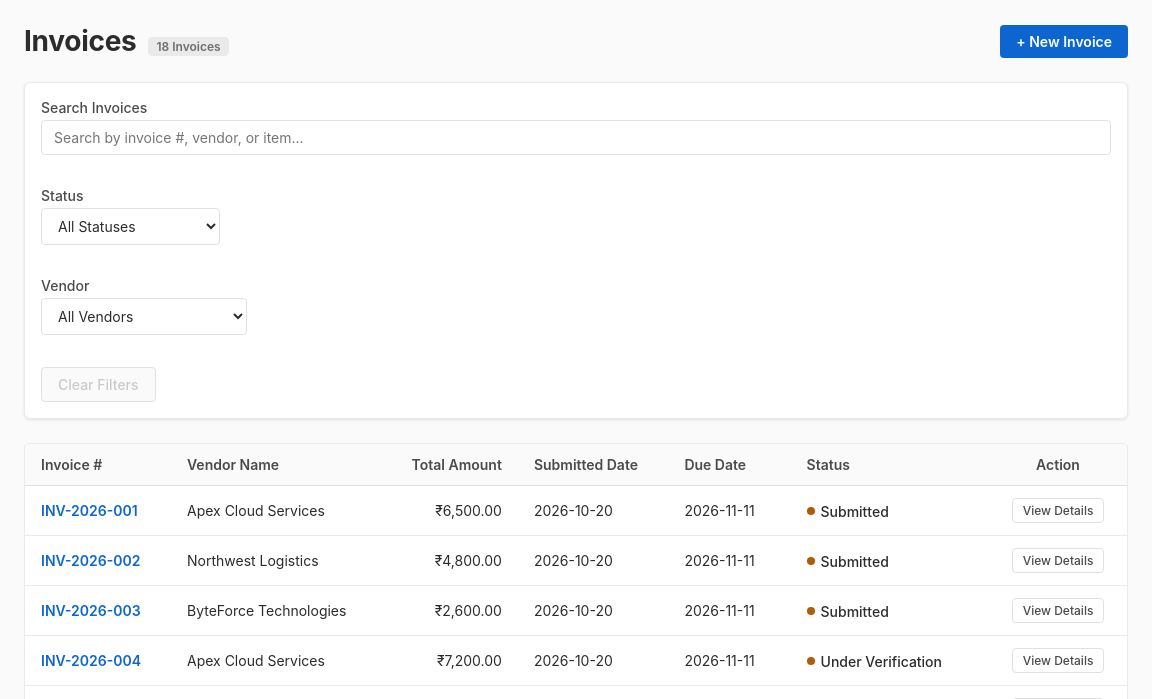
InvoicesPage › Filtering Toolbar › filters invoices by search query matching vendor name
This screenshot has width=1152, height=699.
Expected: the text "INV-2026-001" is shown, [41,502,138,519]
Type "ByteForce" into the search field with test id "invoice-search-input" at (576, 138), box [41,120,1111,155]
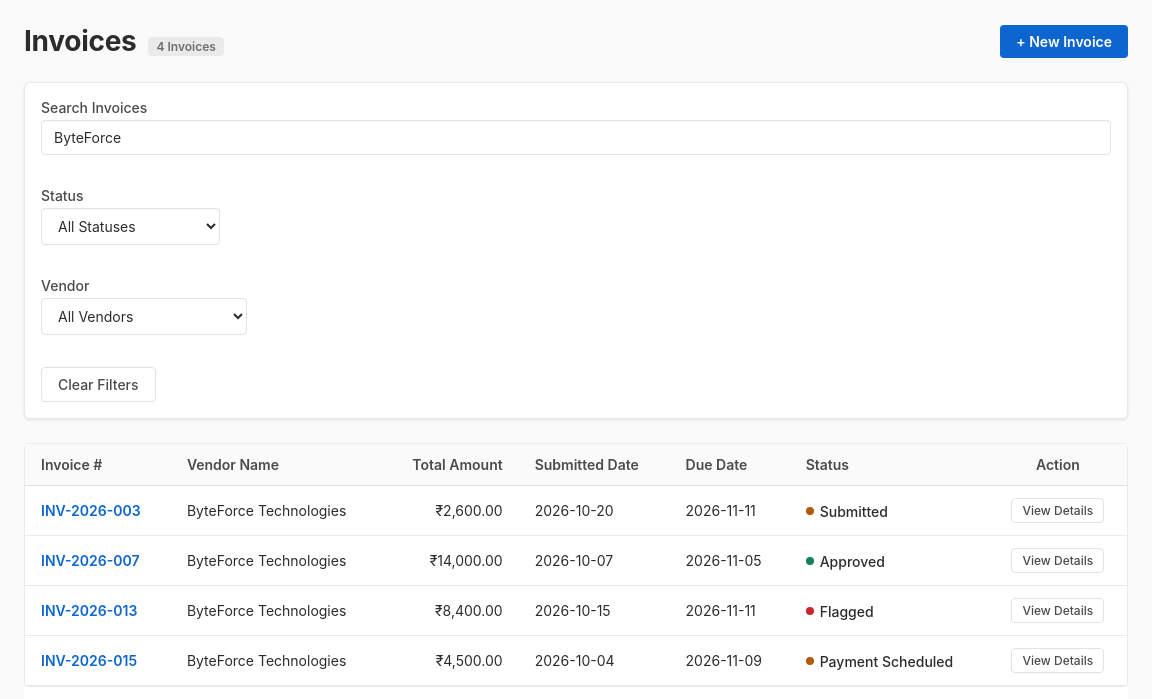
Expected: the text "INV-2026-003" is shown, [41,502,141,519]
Result: the text "INV-2026-001" is gone
